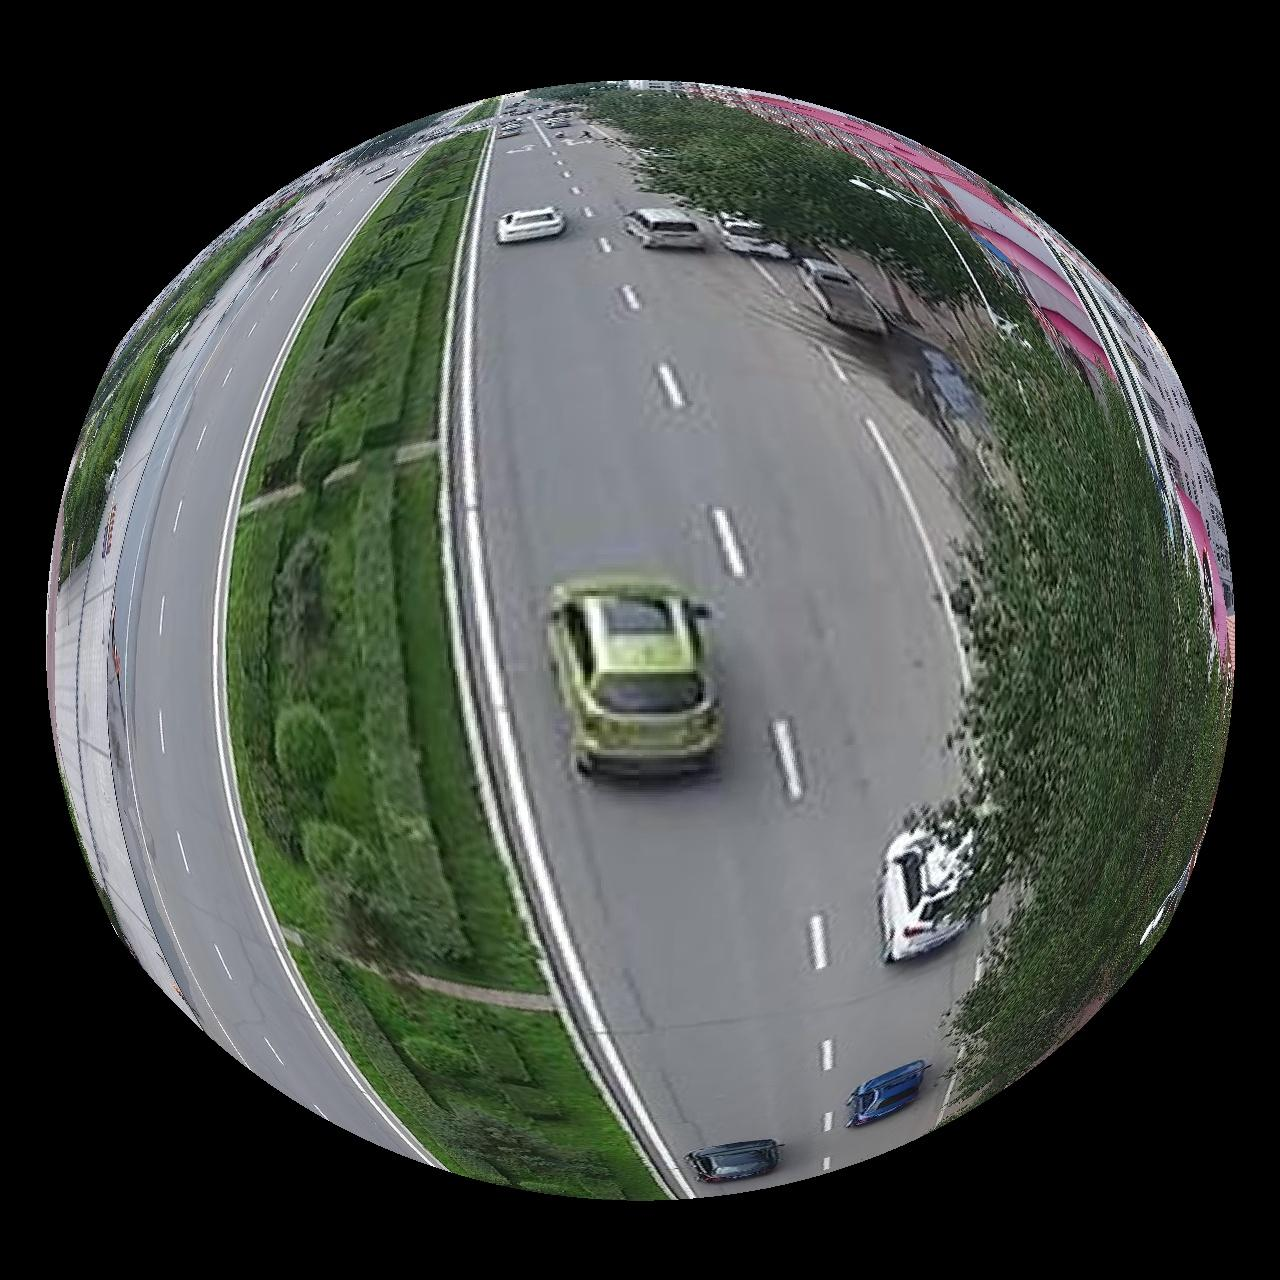cars: (549, 576, 723, 776), (880, 822, 980, 964), (802, 259, 888, 334), (847, 1064, 932, 1130), (686, 1141, 784, 1185), (714, 211, 794, 259), (625, 207, 706, 248), (497, 205, 566, 243)
trees: (953, 328, 1234, 1110), (570, 86, 980, 305)
